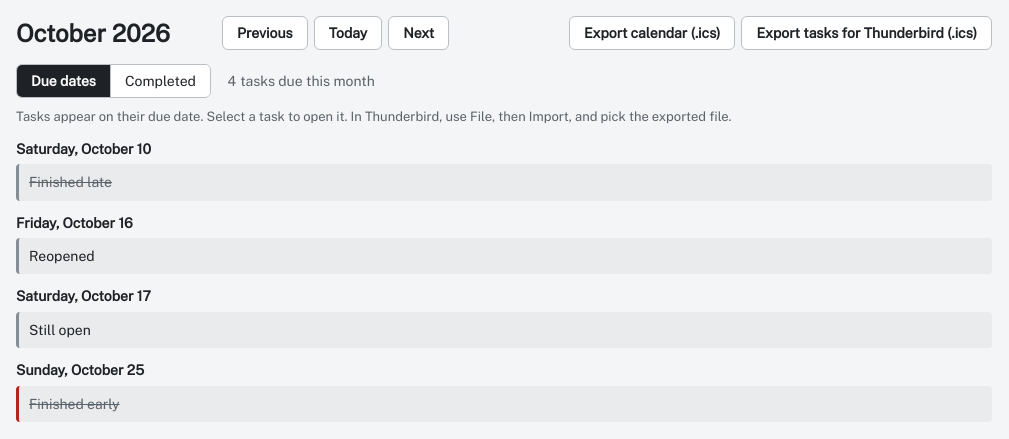
Test: CalendarView › completed view › shows an empty completed month in the agenda
This screenshot has width=1009, height=439.
Click the button "Completed" at (160,81), box [110,65,210,97]
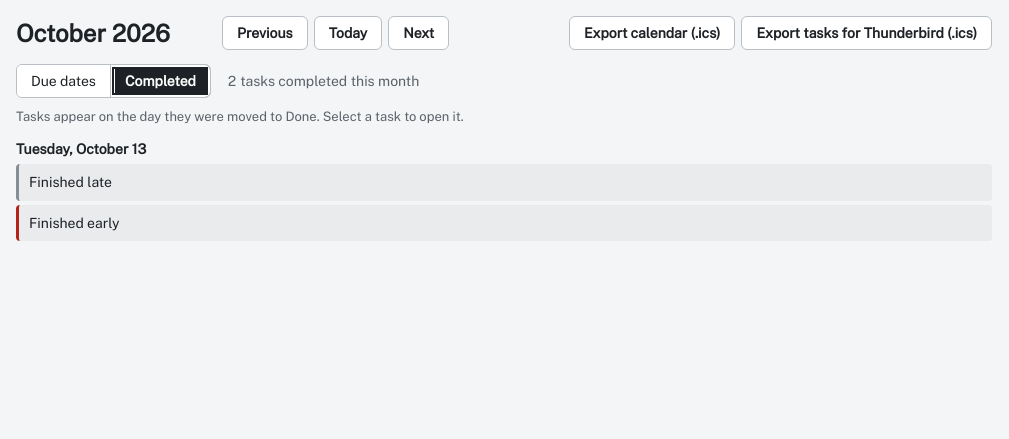
Result: the heading "Tuesday, October 13" is shown at [16,141,146,157]
Click the button with aria-label "Next month" at (419,33), box [388,16,449,50]
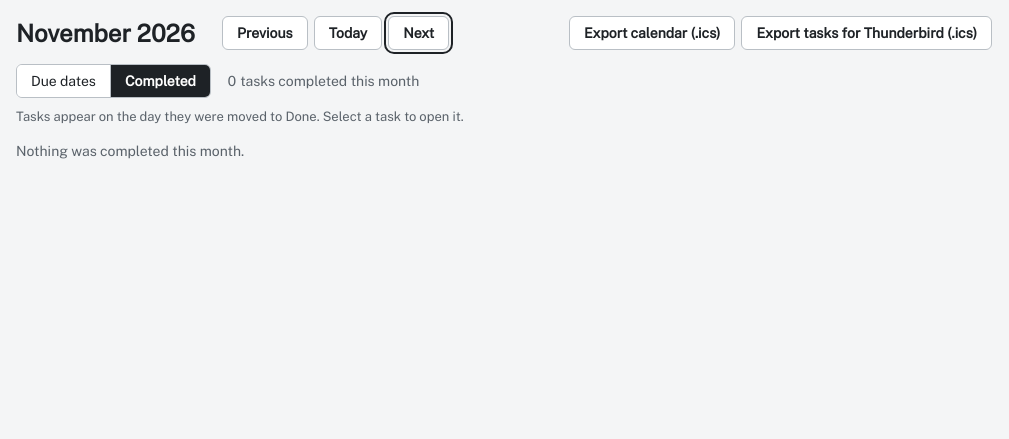
Result: the text "Nothing was completed this month." is shown at [16,143,244,159]
Result: the text "0 tasks completed this month" is shown at [227,71,419,91]
